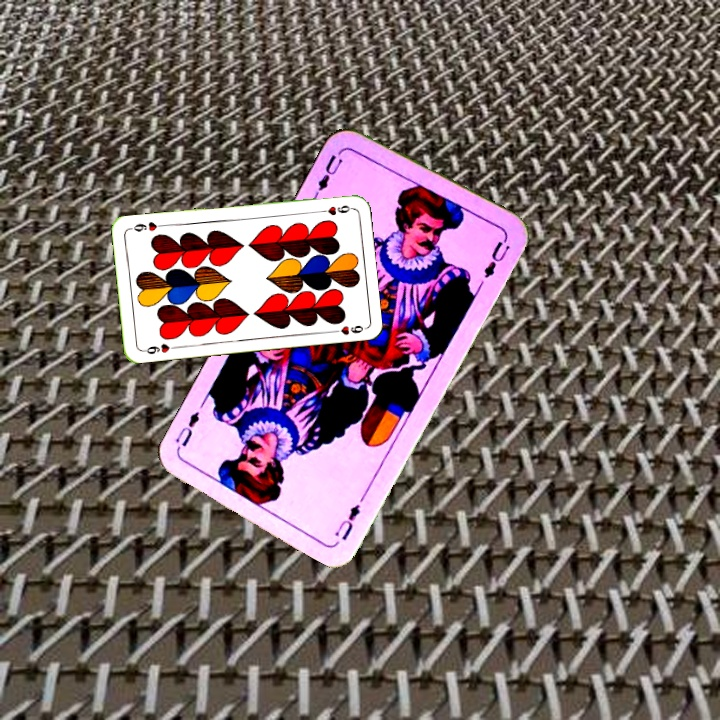EU: (310, 146, 346, 200), (330, 499, 363, 544)
H9: (138, 339, 179, 357), (314, 201, 354, 218)
